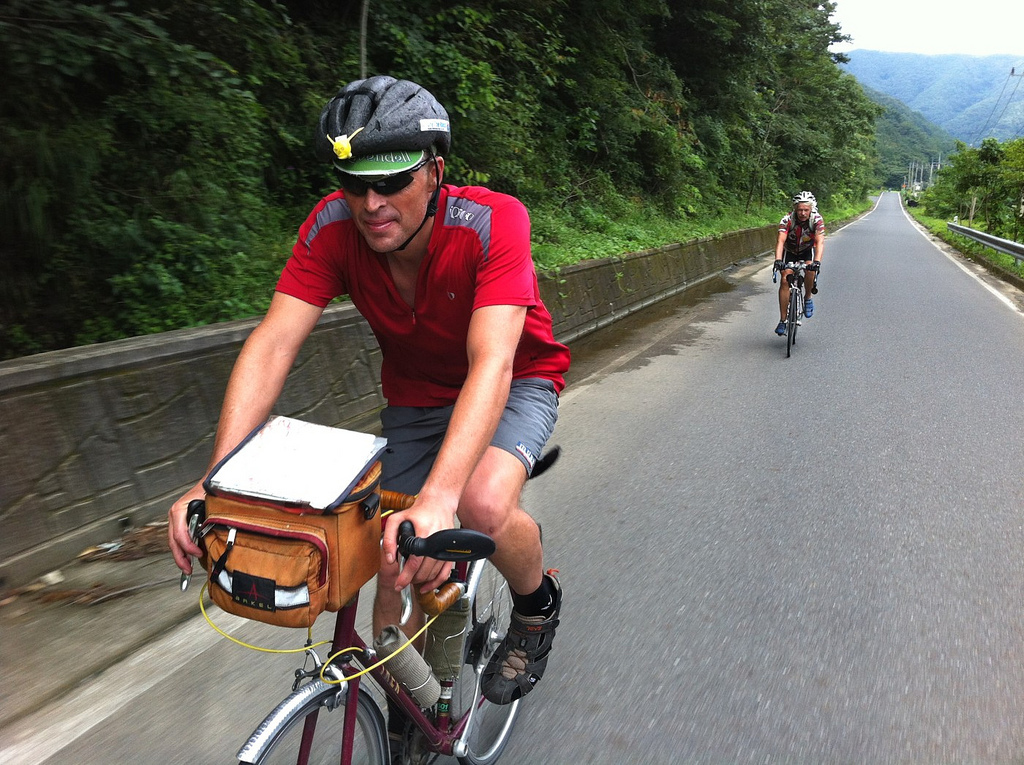Bike: (122, 439, 520, 765)
